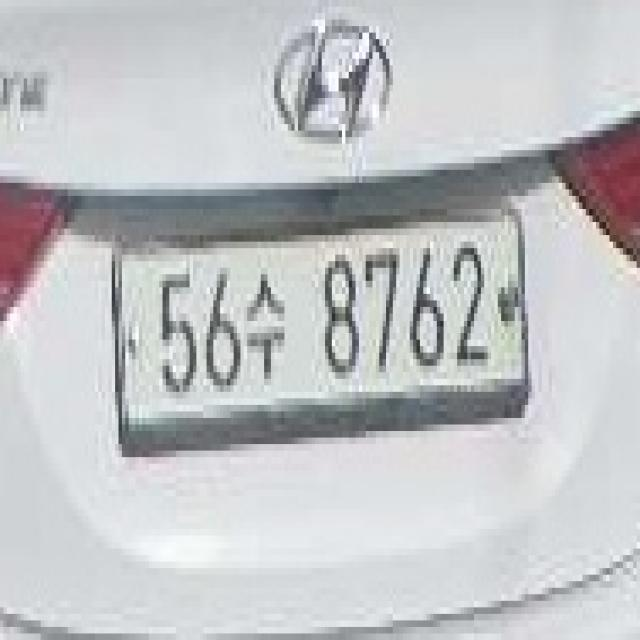2: (448, 232, 494, 370)
5: (155, 268, 199, 398)
6: (408, 233, 446, 372), (203, 259, 243, 390)
7: (364, 238, 404, 374)
8: (319, 240, 362, 376)
license_plate: (108, 190, 538, 476)
su: (246, 254, 288, 385)
